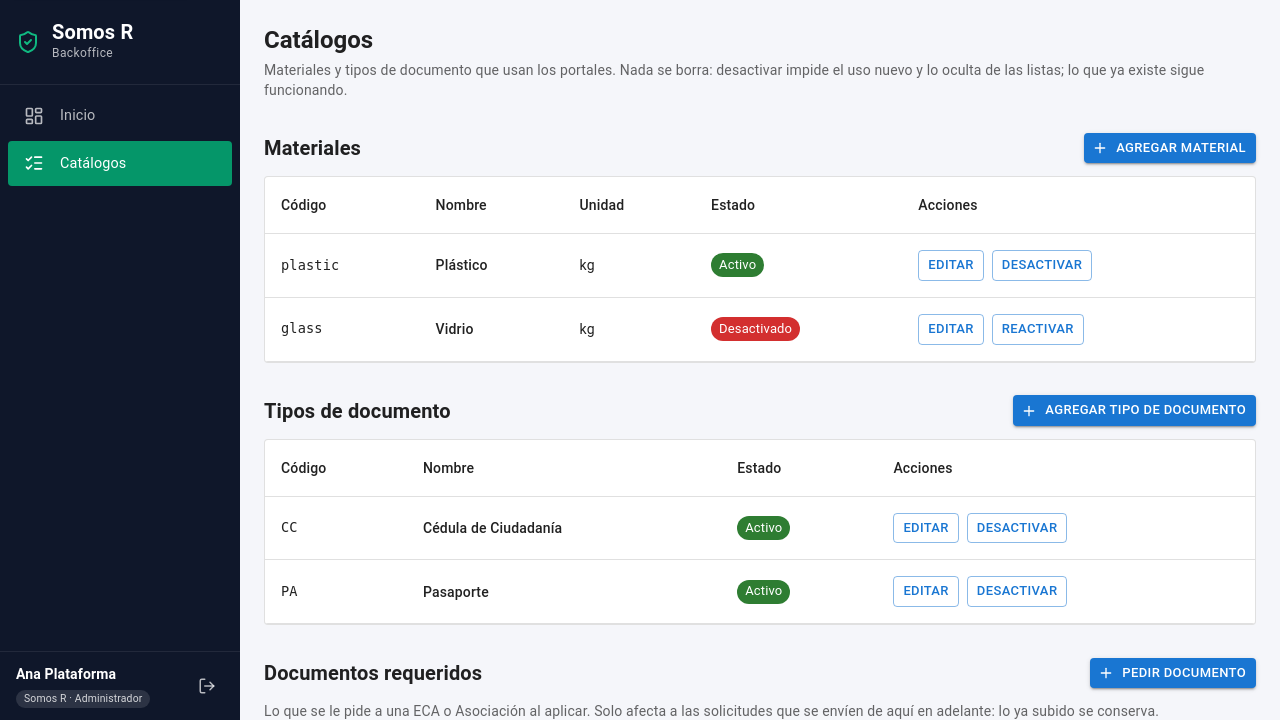
required documents section › asks for a document with its type of organization
Click the button "Pedir documento" at x=1173, y=673, box [1090,658,1256,688]
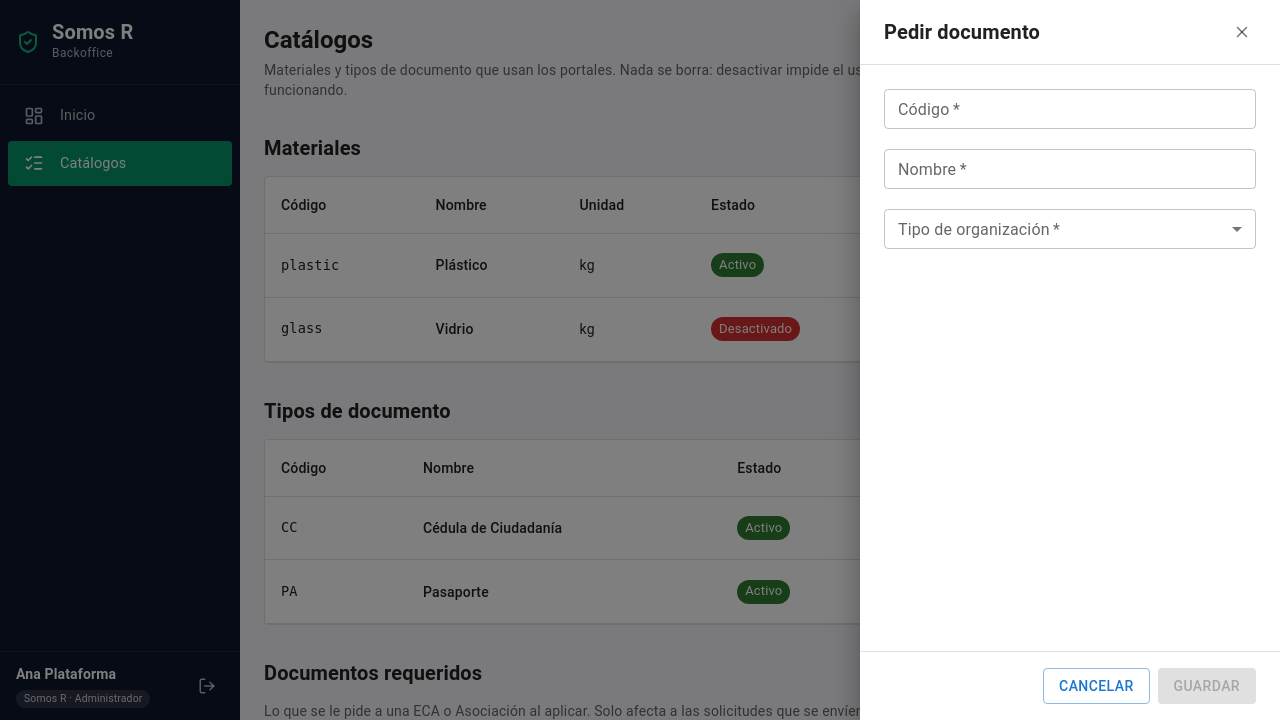
Type "eca_rut" into the field labelled "Código *" at x=1070, y=109, box [884,89,1256,129]
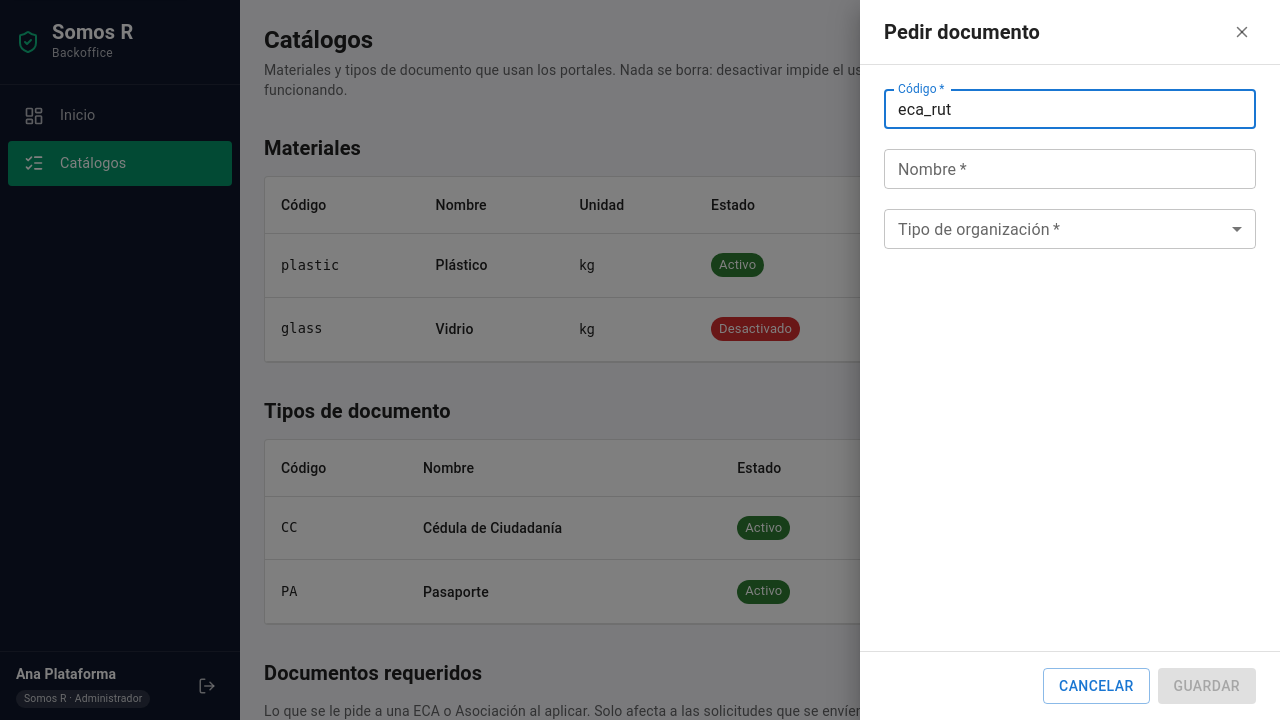
Type " RUT de la ECA " into the field labelled "Nombre *" at x=1070, y=169, box [884,149,1256,189]
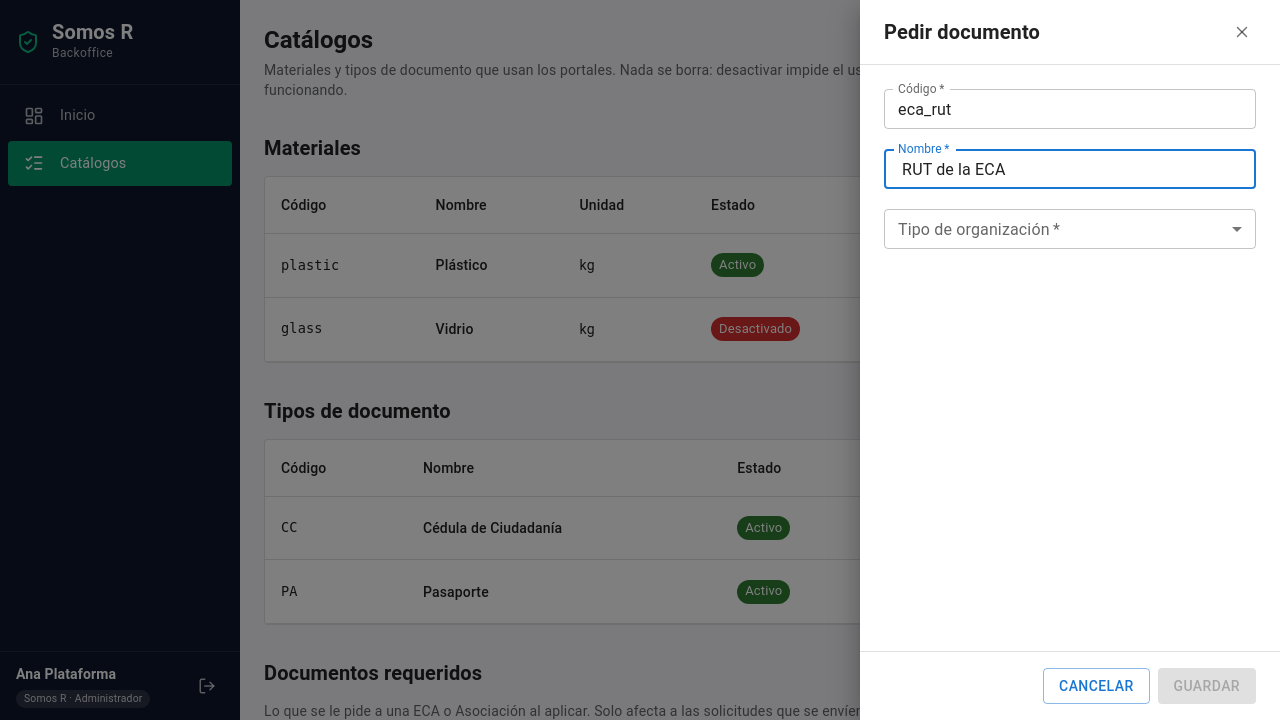
Click the dropdown named "Tipo de organización" at x=1070, y=229, box [884,209,1256,249]
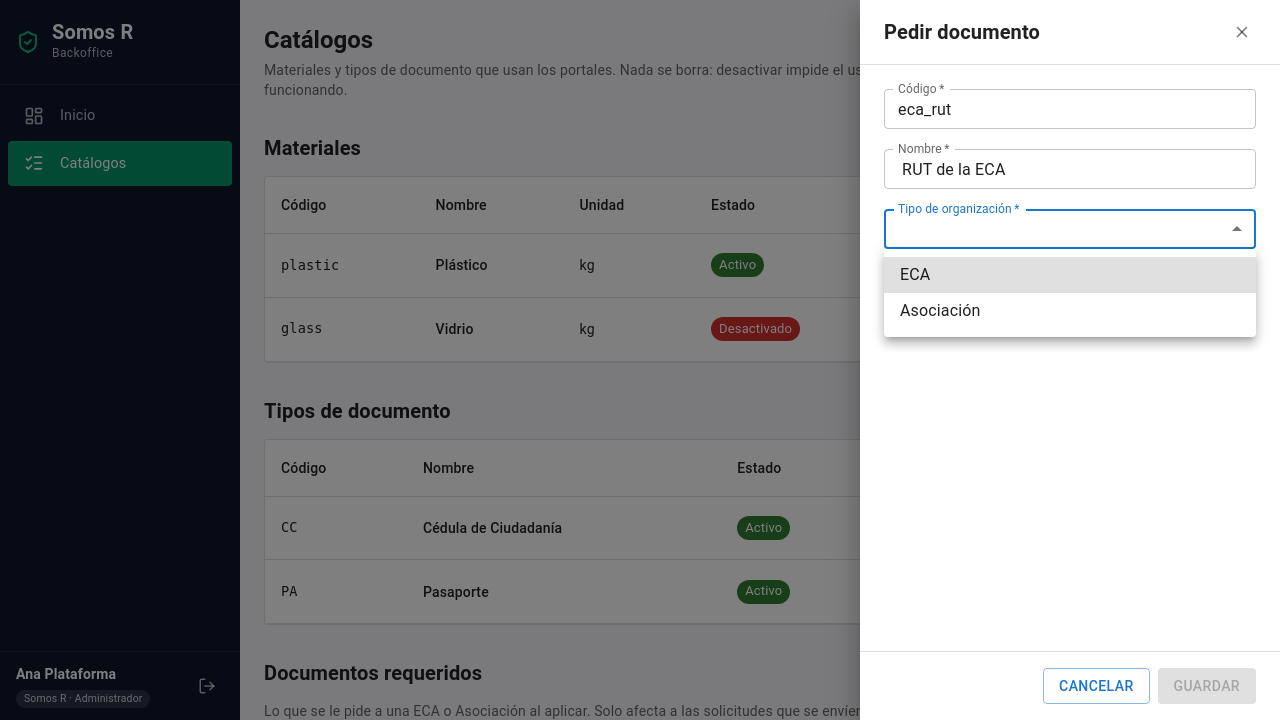
Click the option "ECA" at x=915, y=274, box [884,257,1256,293]
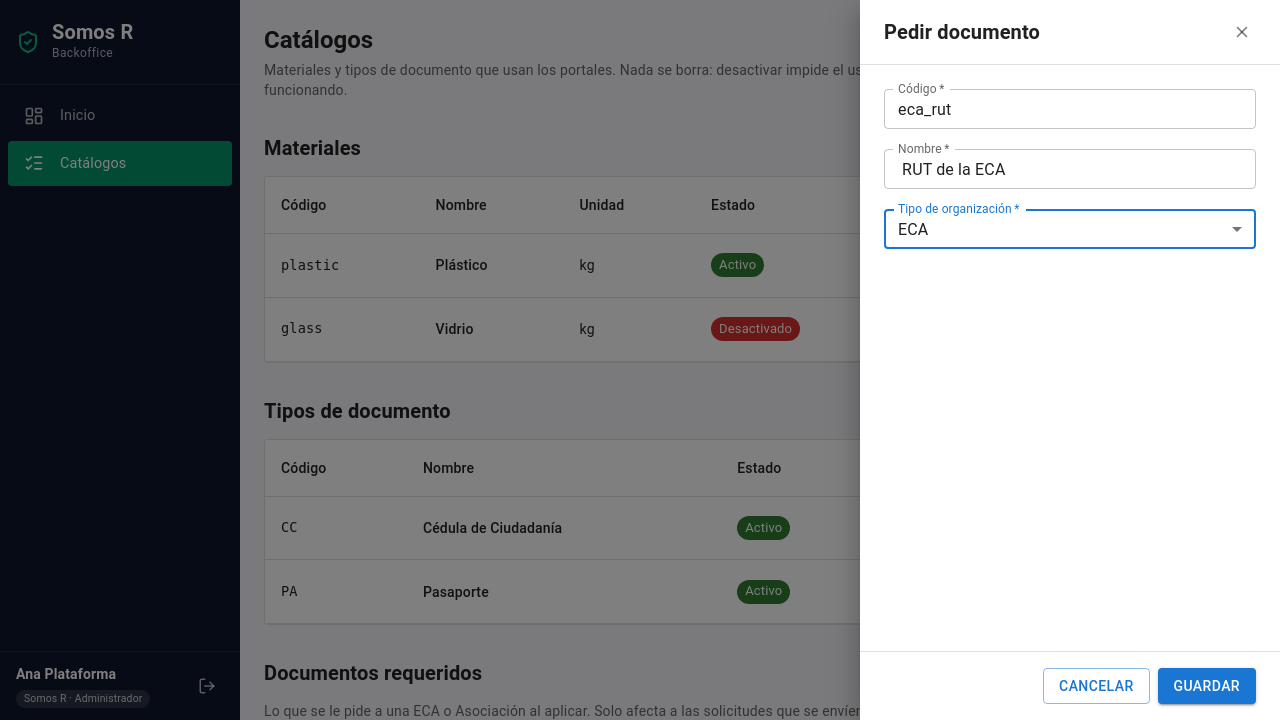
Click the button "Guardar" at x=1207, y=686, box [1158,668,1256,704]
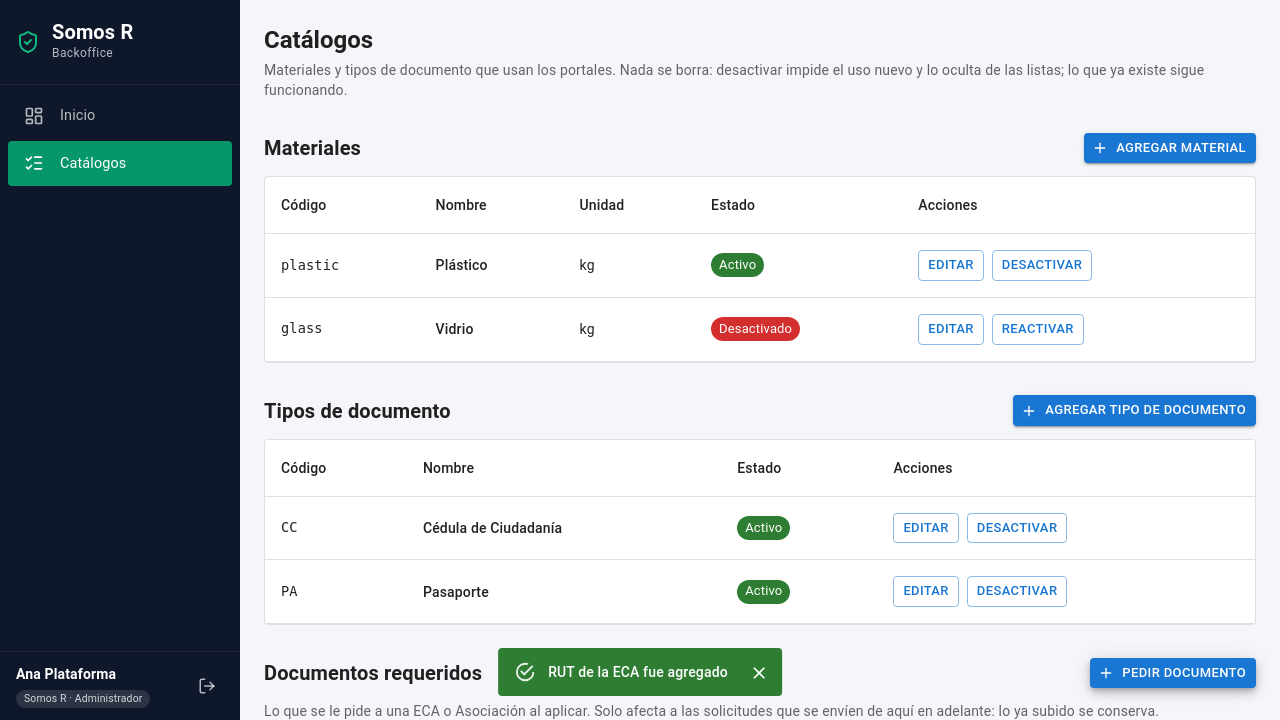
Now the text "RUT de la ECA fue agregado" is shown, box [548,664,728,680]
